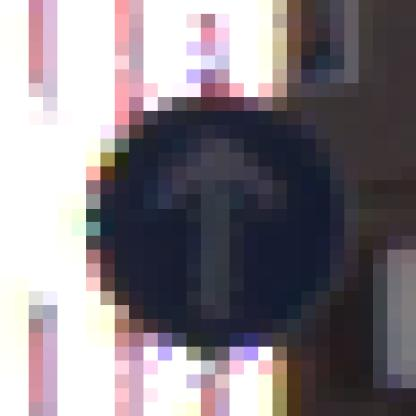AheadOnly: (87, 84, 345, 348)
